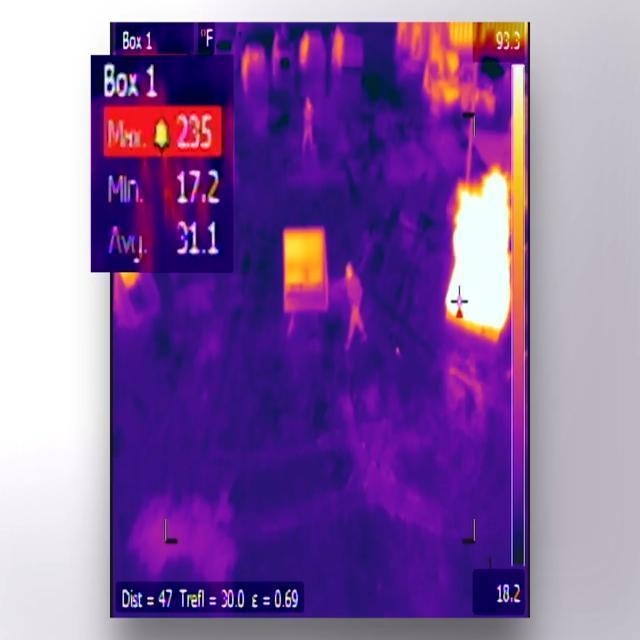fire: (445, 166, 513, 335)
